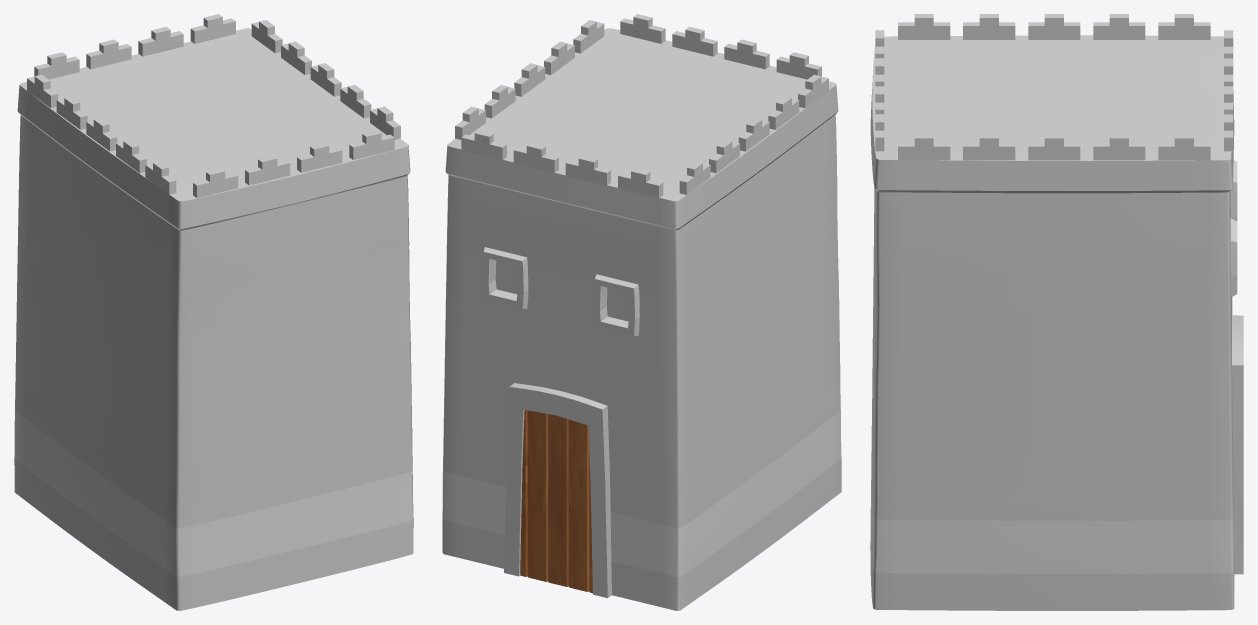
File: Najdi_Base_D01.fbx
The picture shows the model from 3 angles, left to right: view 1: azimuth 30°, elevation 25°; view 2: azimuth 150°, elevation 25°; view 3: azimuth 270°, elevation 25°; orthographic projection. The views are drawn at different scales.
Visible parts, largest first — view 1: Najdi_Base_D01; view 2: Najdi_Base_D01; view 3: Najdi_Base_D01.
Boxes of the visible parts, left/top/right/bottom form: Najdi_Base_D01: left=14, top=14, right=413, bottom=610; Najdi_Base_D01: left=442, top=14, right=841, bottom=610; Najdi_Base_D01: left=870, top=14, right=1243, bottom=610.
Bounding box in the file's own units: 1024 × 1246 × 1733.
